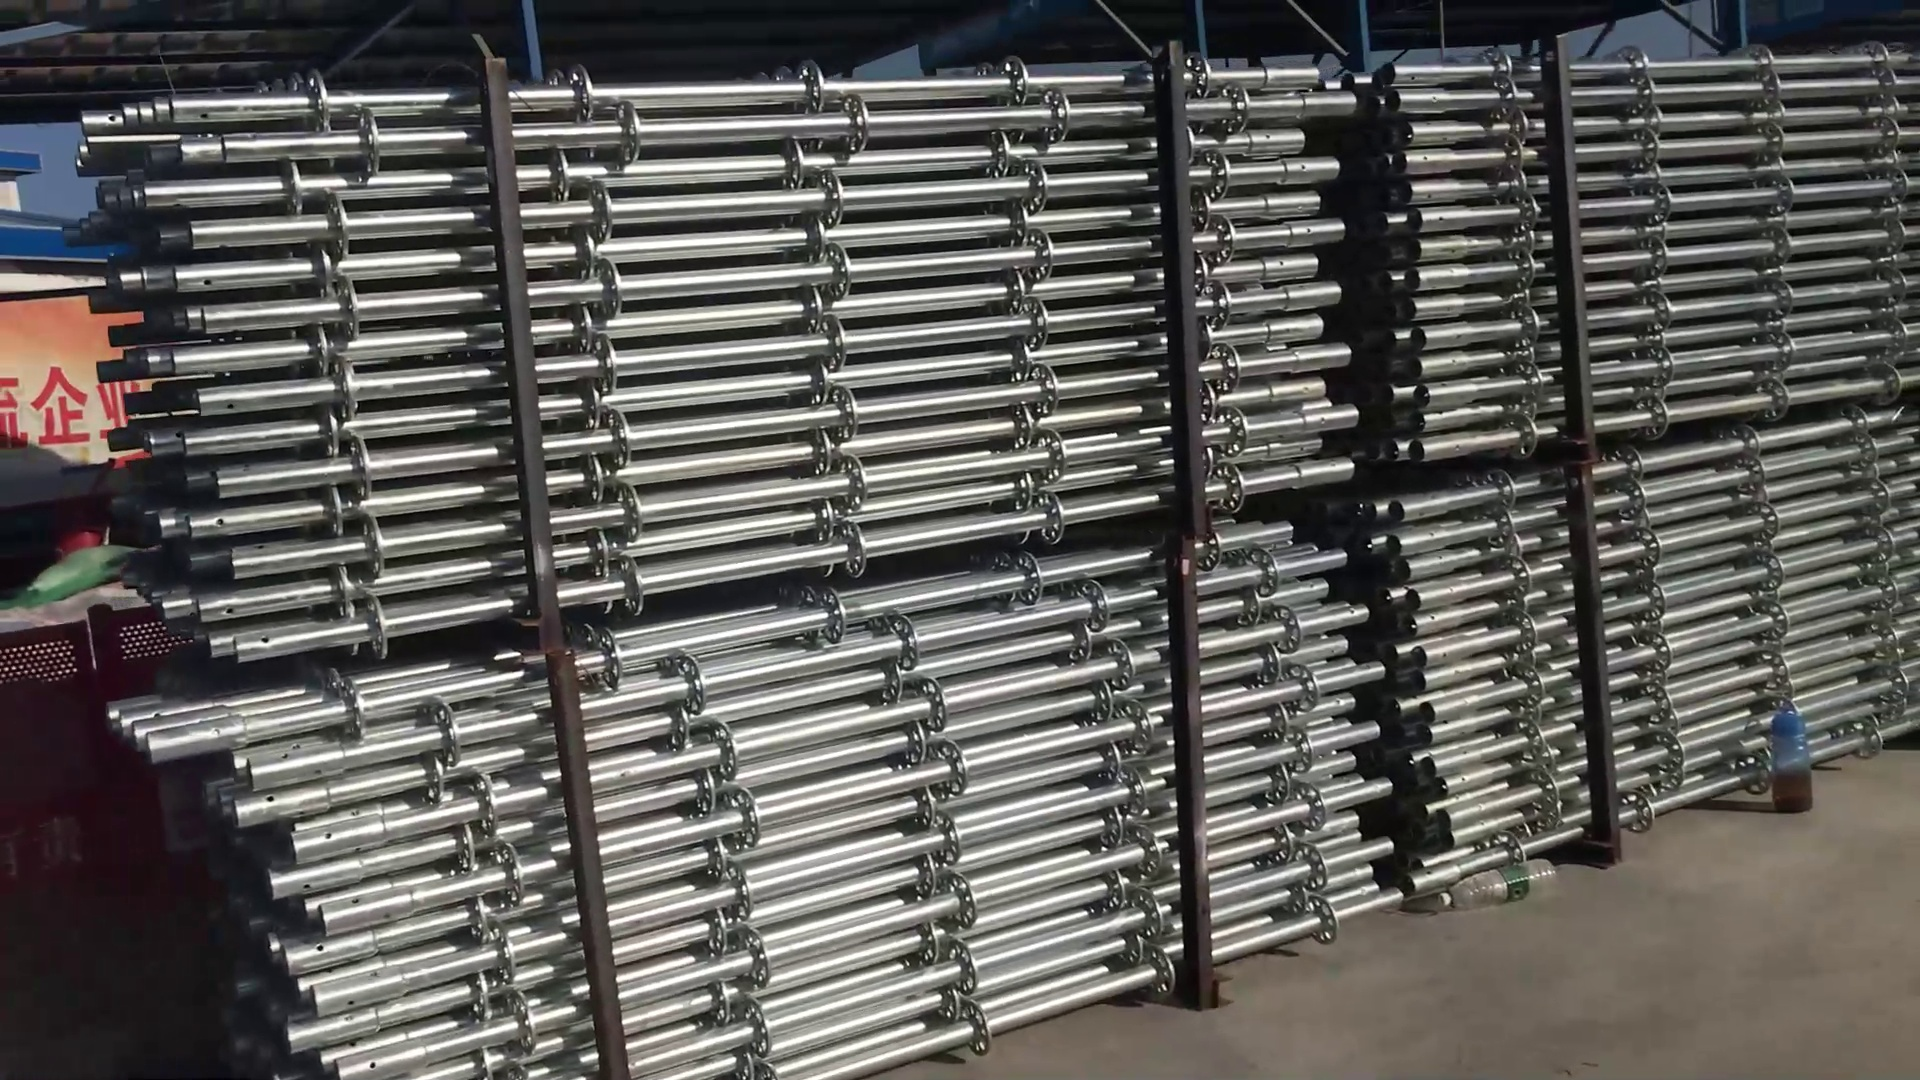scaffold: (111, 95, 1418, 1080), (1381, 32, 1920, 839)
